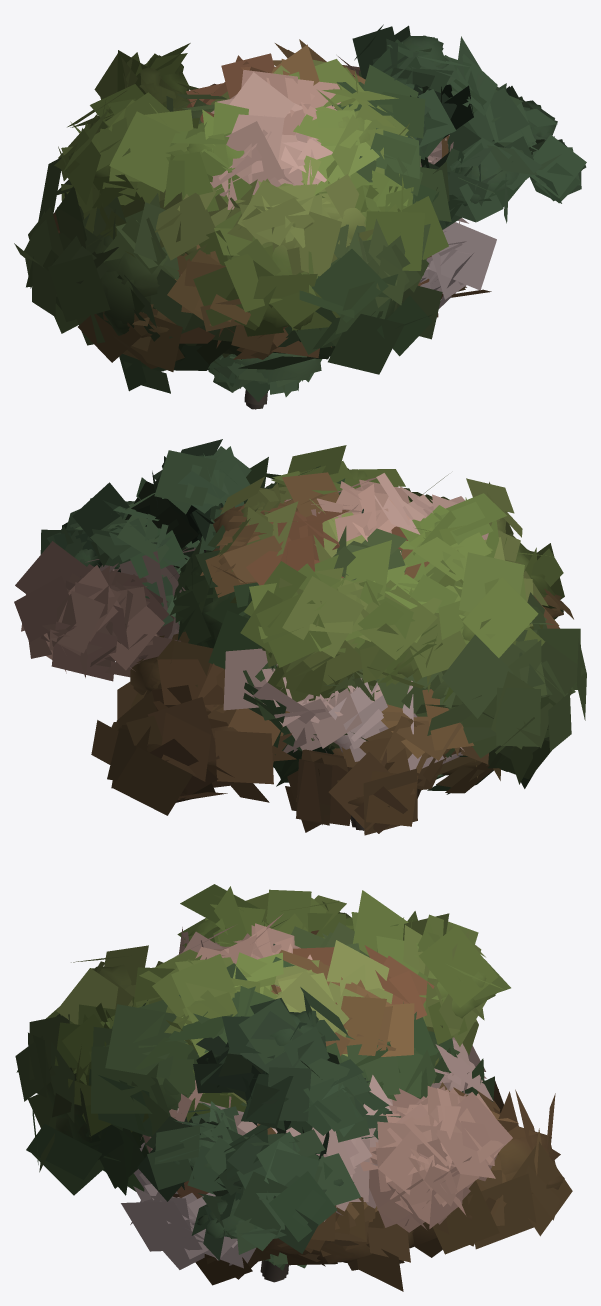
Rendered from forest.glb.
3 views of the same model, one above another, from view 1: azimuth 30°, elevation 25°; view 2: azimuth 150°, elevation 25°; view 3: azimuth 270°, elevation 25° (orthographic). The views are drawn at different scales.
Visible parts, largest first — view 1: kashi_leaves, konara_leaves, keyaki_leaves, pine_leaves, cherry_leaves, momiji_leaves, konara, hinoki_leaves, kashi, kashi_dist, pine, keyaki (+4 smaller); view 2: momiji_leaves, cherry_leaves, kashi_leaves, keyaki_leaves, konara_leaves, pine_leaves, momiji, konara, momiji_far, kashi; view 3: pine_leaves, kashi_leaves, cherry_leaves, momiji_leaves, keyaki_leaves, konara_leaves, momiji, pine, momiji_dist, kashi, keyaki, kashi_dist (+1 smaller).
Part boxes in pixels (x1,y1,x2,y2): kashi_leaves: (14,64,451,393); konara_leaves: (58,53,448,336); keyaki_leaves: (54,43,417,211); pine_leaves: (352,24,586,229); cherry_leaves: (181,56,496,308); momiji_leaves: (53,39,491,371); konara: (139,67,365,406); hinoki_leaves: (208,353,322,402); kashi: (56,104,397,407); kashi_dist: (101,99,395,406); pine: (244,36,586,404); keyaki: (68,55,369,405); momiji_leaves: (91,472,573,835); cherry_leaves: (14,473,488,770); kashi_leaves: (170,457,586,794); keyaki_leaves: (240,445,538,703); konara_leaves: (217,474,564,701); pine_leaves: (40,439,251,626); momiji: (111,507,563,830); konara: (241,496,555,827); momiji_far: (133,508,561,807); kashi: (180,488,563,828); pine_leaves: (137,987,400,1260); kashi_leaves: (15,922,494,1195); cherry_leaves: (121,914,512,1269); momiji_leaves: (172,930,572,1291); keyaki_leaves: (103,884,510,1132); konara_leaves: (46,925,486,1136); momiji: (264,1089,564,1282); pine: (173,1011,392,1280); momiji_dist: (320,1149,560,1258); kashi: (46,1054,348,1150); keyaki: (185,912,496,1017); kashi_dist: (46,1078,179,1138).
Bounding box in the file's own units: 1.87 × 1.16 × 1.65.
